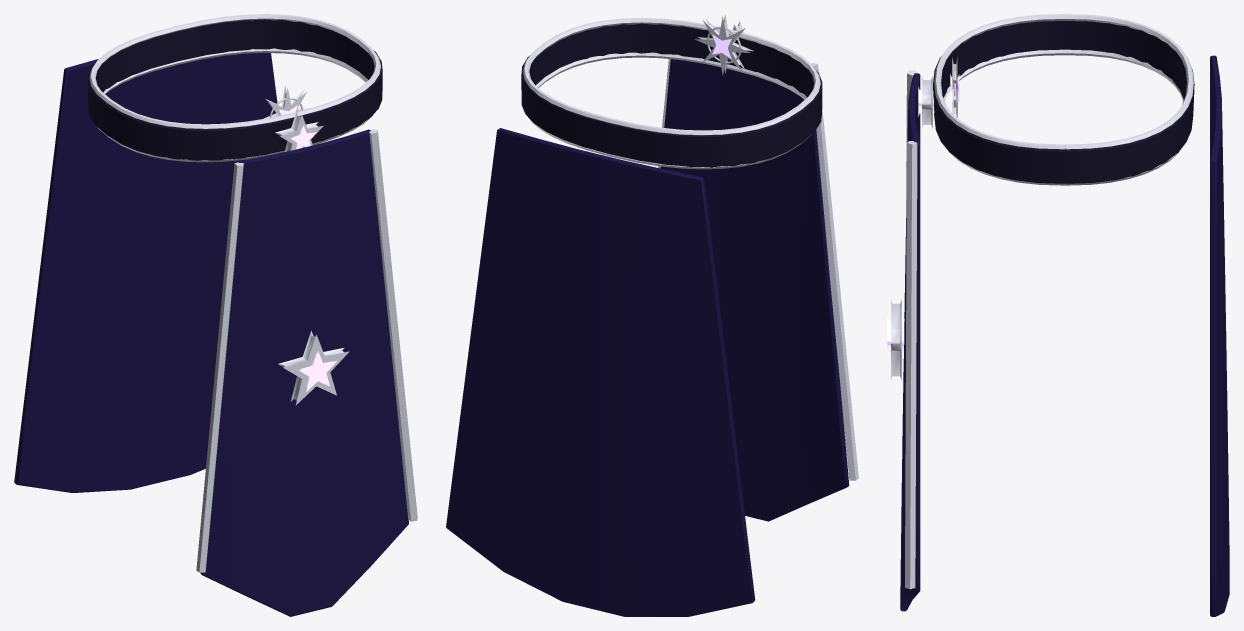
Rendered from asc_astral_magister_inner.glb.
The picture shows the model from 3 angles, left to right: view 1: azimuth 30°, elevation 25°; view 2: azimuth 150°, elevation 25°; view 3: azimuth 270°, elevation 25°; orthographic projection. The views are drawn at different scales.
Parts seen in each view (by area): view 1: asc_astral_magister_inner; view 2: asc_astral_magister_inner; view 3: asc_astral_magister_inner.
Boxes of the visible parts, bbox=[...] form: asc_astral_magister_inner: bbox=[14, 14, 417, 616]; asc_astral_magister_inner: bbox=[446, 14, 858, 616]; asc_astral_magister_inner: bbox=[887, 14, 1229, 616].
Bounding box in the file's own units: 0.5401 × 0.8701 × 0.4972.
